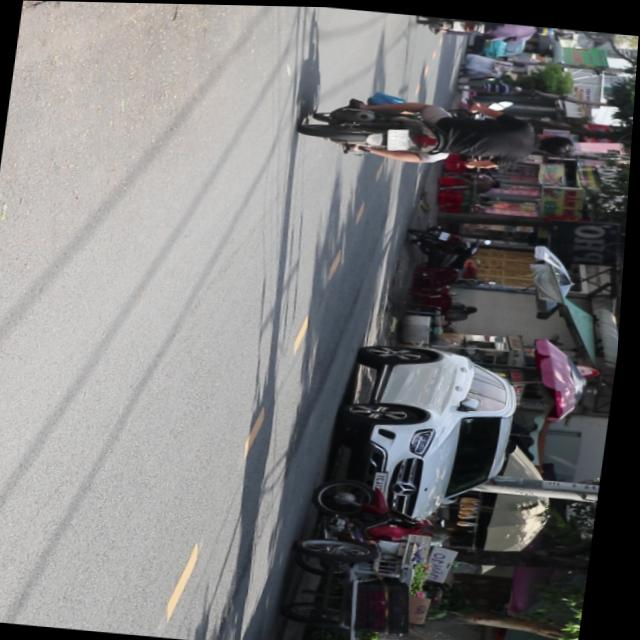licenseplate: (299, 85, 586, 179)
motorcyclist: (534, 129, 580, 157)
nohelmet: (387, 126, 412, 150)
